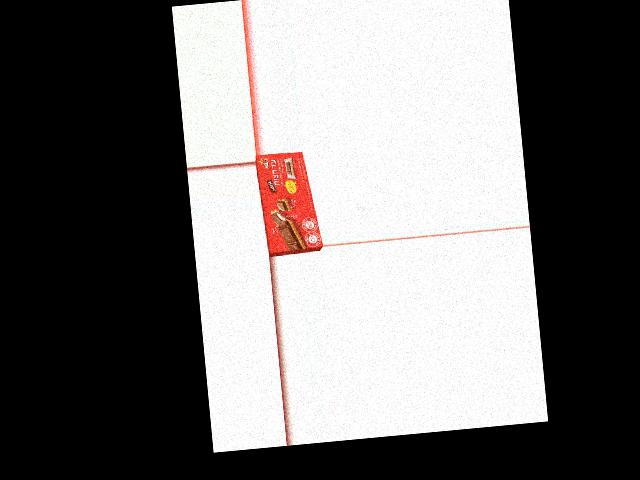chocolate: (259, 149, 317, 255)
